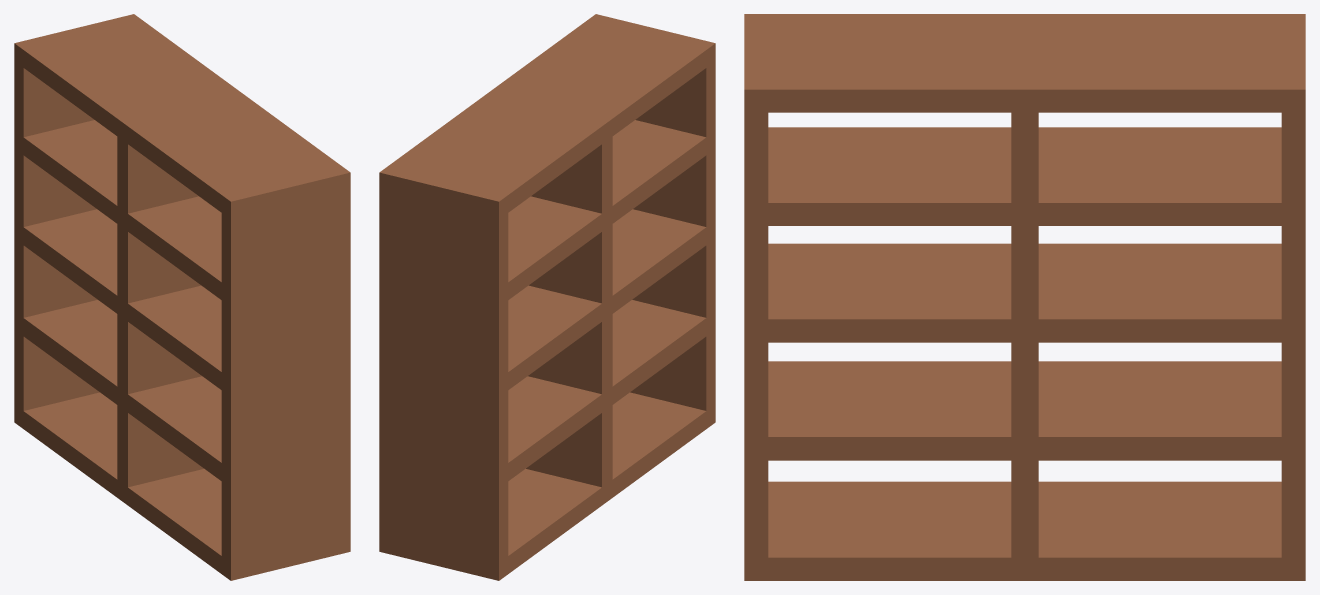
Rendered from Regal.fbx.
The picture shows the model from 3 angles, left to right: view 1: azimuth 30°, elevation 25°; view 2: azimuth 150°, elevation 25°; view 3: azimuth 270°, elevation 25°; orthographic projection. The views are drawn at different scales.
Visible parts, largest first — view 1: Regal; view 2: Regal; view 3: Regal.
Part boxes in pixels (left/top/right/bottom): Regal: left=14, top=14, right=350, bottom=580; Regal: left=379, top=14, right=715, bottom=580; Regal: left=744, top=14, right=1305, bottom=580.
Size of the model in its own units: 432 by 1308 by 1354.
